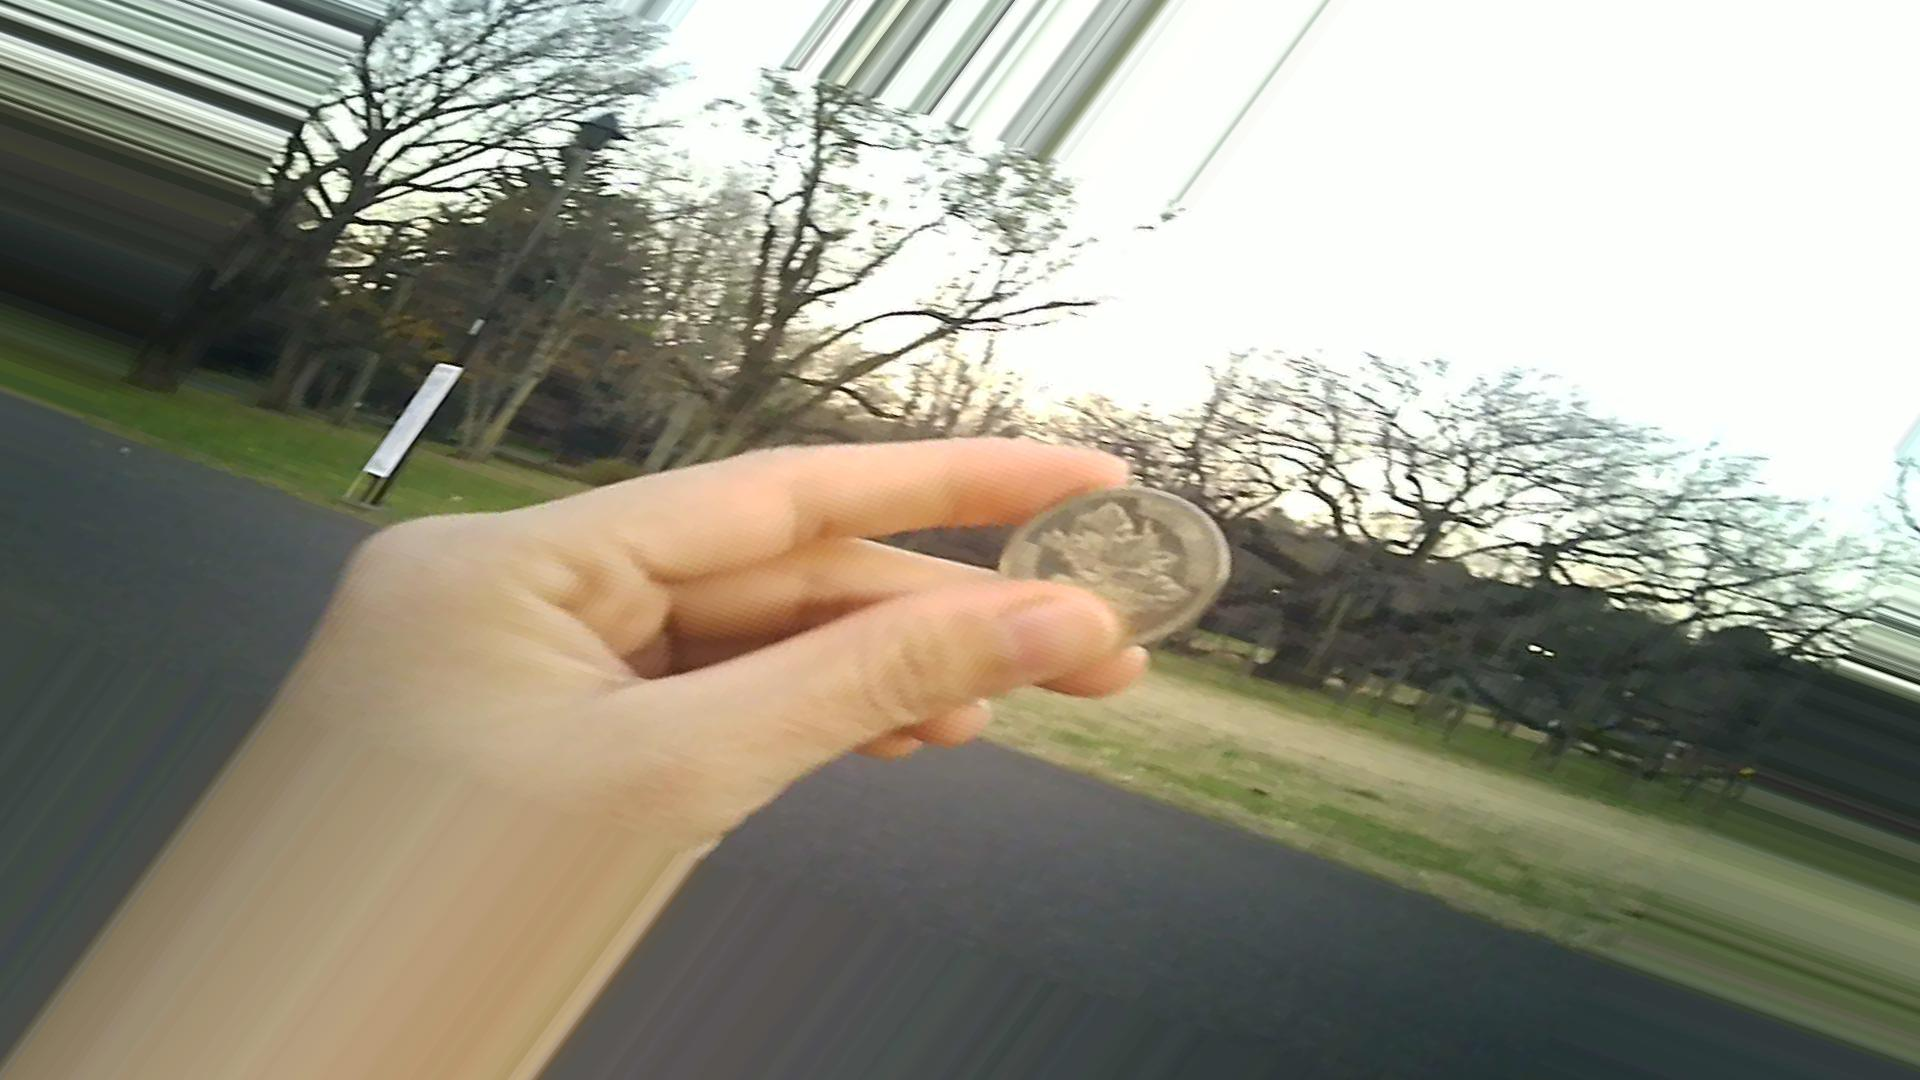500 Yen: (986, 473, 1230, 655)
